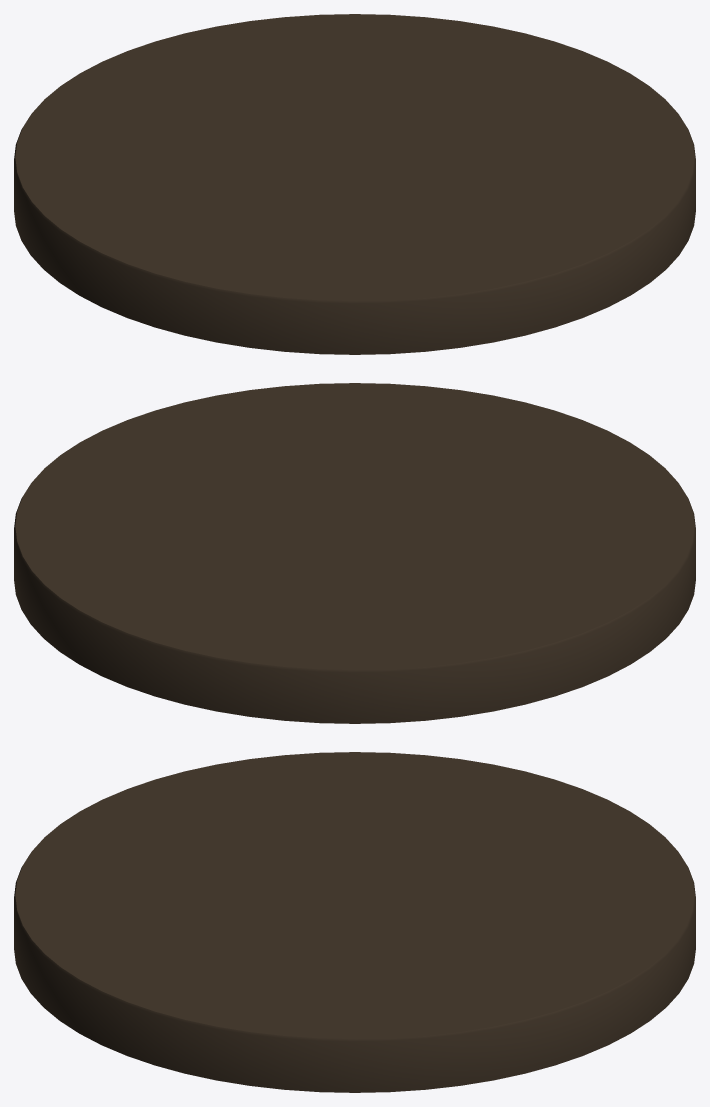
The model's file is platform.fbx.
3 views of the same model, one above another, from view 1: azimuth 30°, elevation 25°; view 2: azimuth 150°, elevation 25°; view 3: azimuth 270°, elevation 25° (orthographic).
Parts seen in each view (by area): view 1: platform; view 2: platform; view 3: platform.
Part boxes in pixels (x1,y1,x2,y2): platform: (14, 14, 695, 354); platform: (14, 383, 695, 723); platform: (14, 752, 695, 1092).
Size of the model in its own units: 343 by 29.52 by 343.
